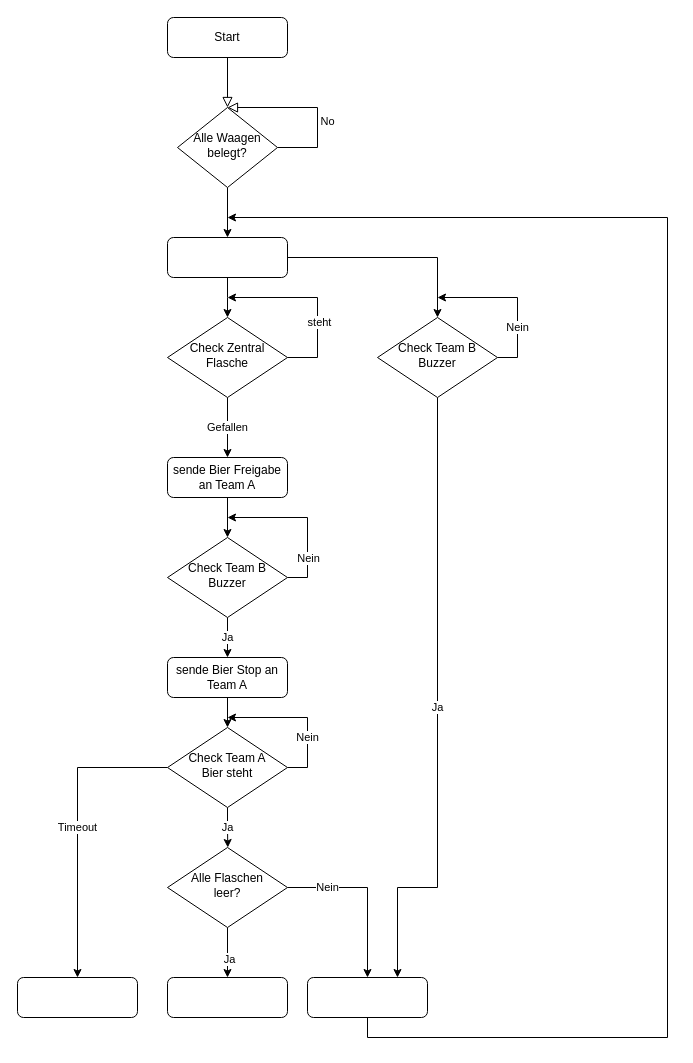
The diagram is 693 pixels wide and 1063 high, and some of its shapes have lost their labels. Here are the shapes that lost their labels. From the top down, the box of each, then its label:
(166, 236, 288, 278): Sende zu Team A: Start
(16, 976, 138, 1018): Team A verliert
(166, 976, 288, 1018): Team A gewinnt
(306, 976, 428, 1018): Sende zu Team B: Start
